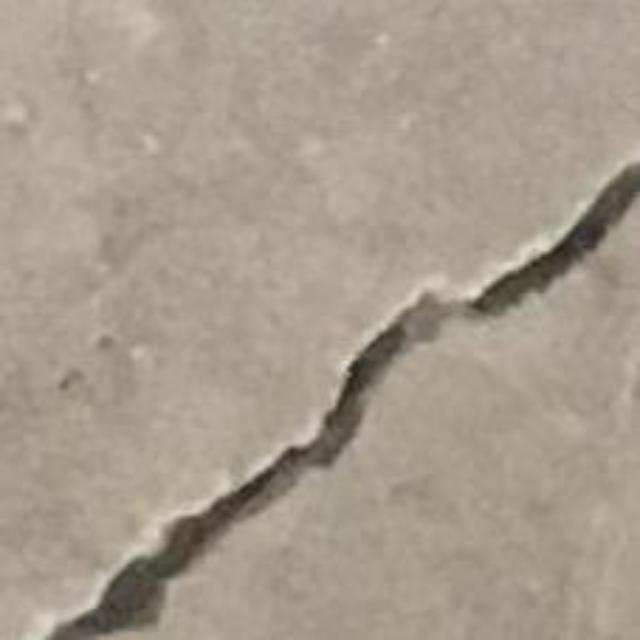crack: (46, 164, 639, 639)
